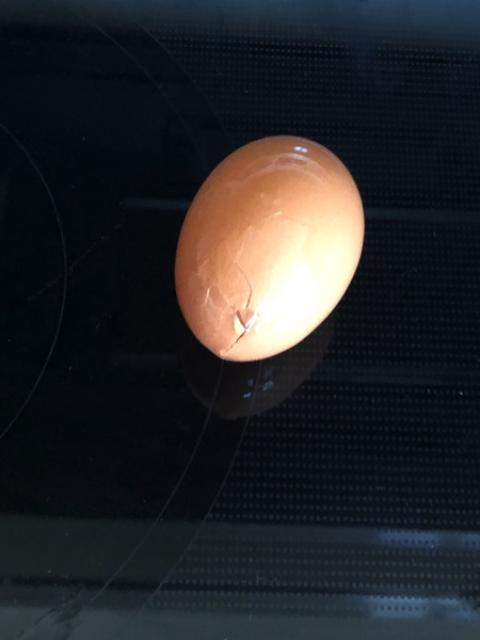Roto: (173, 132, 366, 363)
